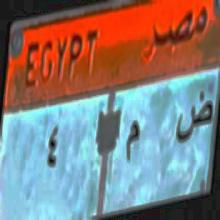4: (45, 122, 61, 177)
daad: (174, 90, 213, 154)
meem: (124, 118, 142, 172)
